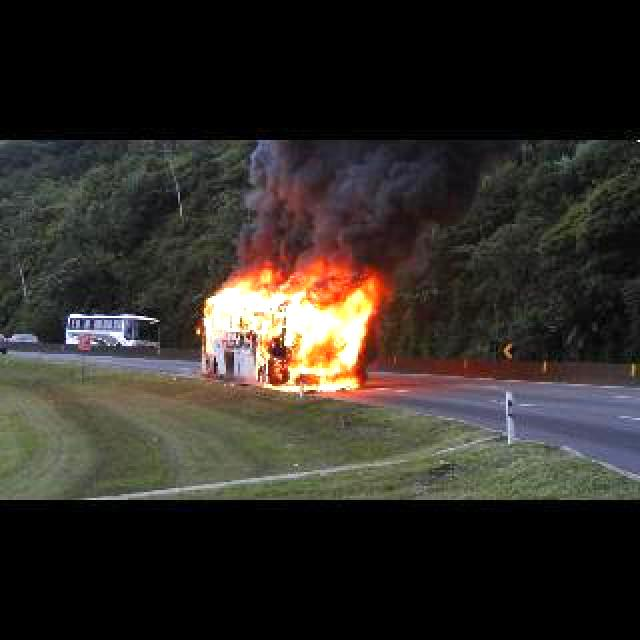fire: (216, 140, 410, 278), (192, 264, 384, 398)
